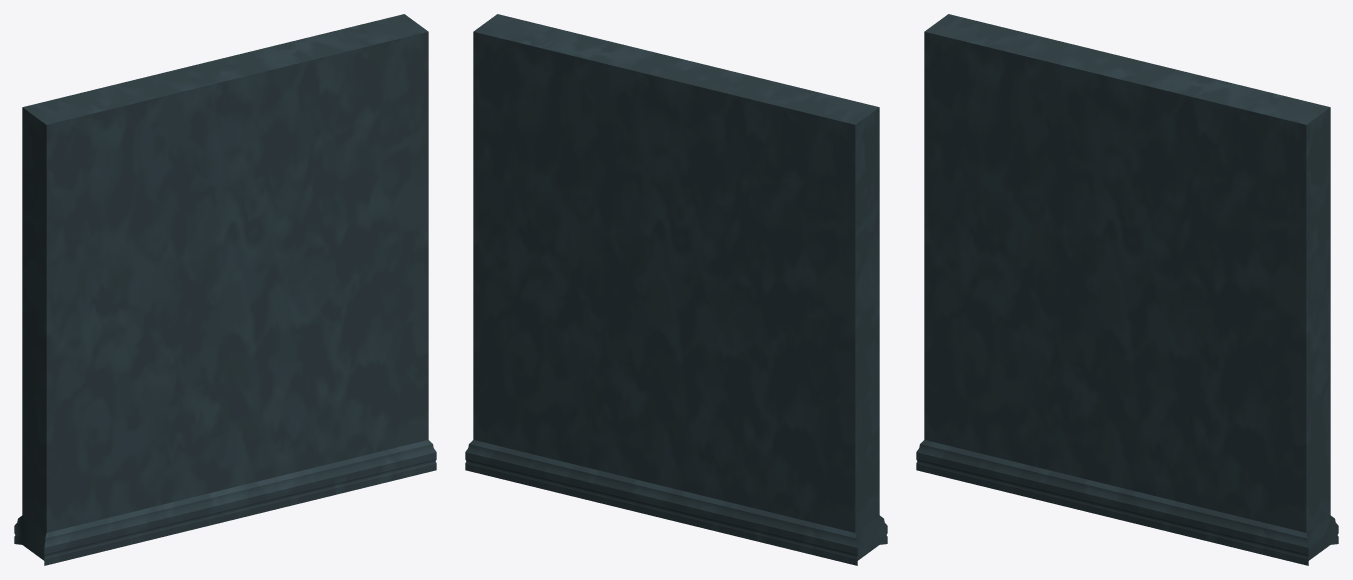
The model's file is Wall.fbx.
3 renders of one model, left to right at view 1: azimuth 30°, elevation 25°; view 2: azimuth 150°, elevation 25°; view 3: azimuth 330°, elevation 25°, orthographic.
Visible parts, largest first — view 1: pCube1; view 2: pCube1; view 3: pCube1.
Part boxes in pixels (x1,y1,x2,y2): pCube1: (14, 14, 436, 565); pCube1: (465, 14, 887, 565); pCube1: (916, 14, 1338, 565).
Size of the model in its own units: 0.00938 by 0.01 by 0.00125.
